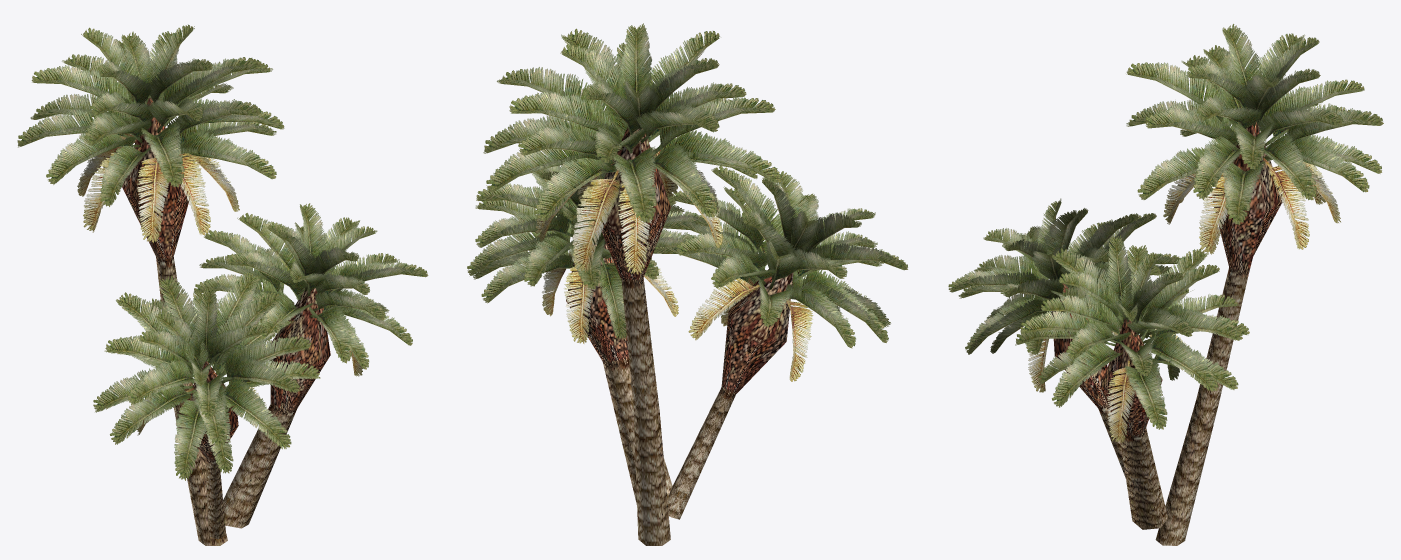
The model's file is flora_tree_cretan_date_palm_patch.glb.
The picture shows the model from 3 angles, left to right: view 1: azimuth 30°, elevation 25°; view 2: azimuth 150°, elevation 25°; view 3: azimuth 270°, elevation 25°; orthographic projection. The views are drawn at different scales.
Visible parts, largest first — view 1: flora_tree_cretan_date_palm_patch_part0; view 2: flora_tree_cretan_date_palm_patch_part0; view 3: flora_tree_cretan_date_palm_patch_part0.
Part boxes in pixels (bbox=[...]): flora_tree_cretan_date_palm_patch_part0: bbox=[17, 24, 428, 545]; flora_tree_cretan_date_palm_patch_part0: bbox=[467, 23, 907, 545]; flora_tree_cretan_date_palm_patch_part0: bbox=[948, 24, 1383, 545].
Size of the model in its own units: 12.91 by 17.73 by 14.7.
1 material, 1 textured.
